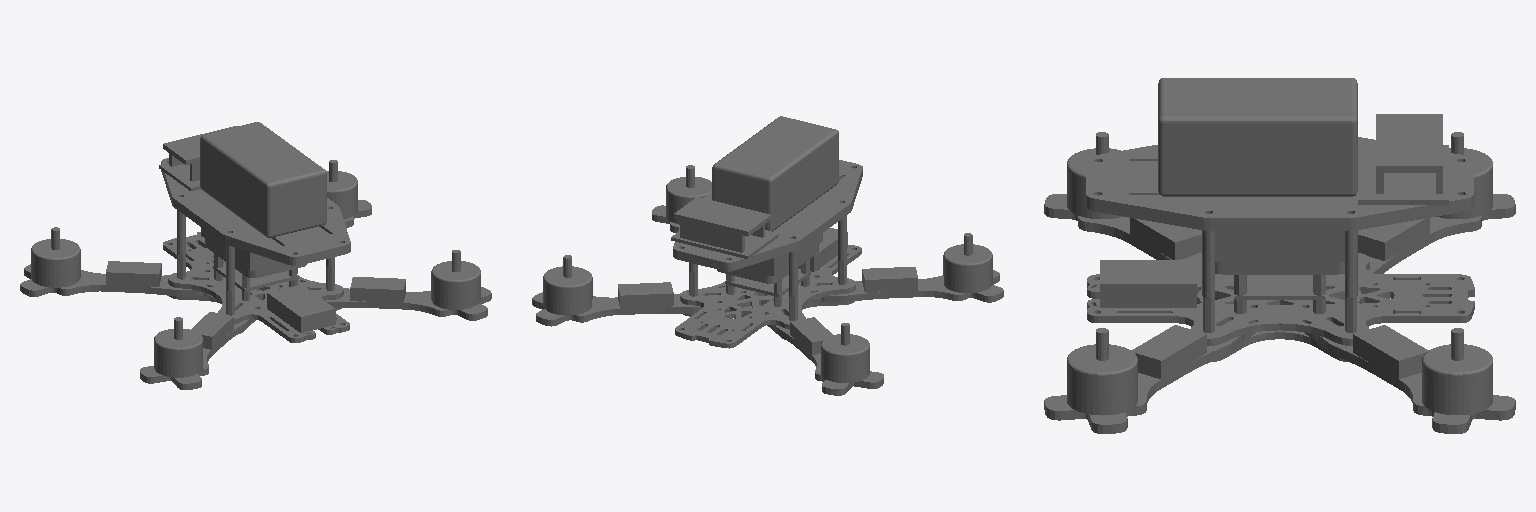
URDF robot description (cerlab):
<?xml version="1.0" ?>

<robot name="cerlab">

  <properties   arm="0.11300" 
                kf="3.16e-10" 
                km="7.94e-12" 
                thrust2weight="2.25" 
                max_speed_kmh="30"        
                gnd_eff_coeff="11.36859"    
                prop_radius="0.064"    
                drag_coeff_xy="9.1785e-7"   
                drag_coeff_z="10.311e-7"  
                dw_coeff_1="2267.18" 
                dw_coeff_2=".16" 
                dw_coeff_3="-.11" />

  <link name="base_link"> 

    <inertial>
      <origin rpy="0 0 0" xyz="0 0 0"/>
      <mass value="0.027"/>
      <inertia ixx="0.00024641" ixy="0.0" ixz="0.0" iyy="0.00012483" iyz="0.0" izz="0.00034464"/>
    </inertial>

    <!-- links>
      <carlos url="https://arxiv.org/pdf/1608.05786.pdf" />
      <julian url="http://mikehamer.info/assets/papers/Crazyflie%20Modelling.pdf" />
      <mit url="http://groups.csail.mit.edu/robotics-center/public_papers/Landry15.pdf" />
    </links -->

    <visual>
      <origin rpy="0 0 0" xyz="0 0 0"/>
      <geometry>
        <mesh filename="./cerlab.dae" scale=" 1 1 1"/>
      </geometry> 
      <material name="grey">
        <color rgba=".5 .5 .5 1"/>
      </material> 
    </visual>

    <collision>
      <origin rpy="0 0 0" xyz="0 0 0"/>
      <geometry>
        <cylinder radius=".06" length=".025"/>
      </geometry>
    </collision>  

  </link>

  <link name="prop0_link">
    <inertial>
      <origin rpy="0 0 0" xyz="0.09176543853 -0.06594015688 0"/>
      <mass value="0"/>
      <inertia ixx="0" ixy="0" ixz="0" iyy="0" iyz="0" izz="0"/>
    </inertial>
  </link>
  <joint name="prop0_joint" type="fixed">
    <parent link="base_link"/>
    <child link="prop0_link"/>
  </joint>

  <link name="prop1_link">
    <inertial>
      <origin rpy="0 0 0" xyz="-0.09176543853 0.06594015688 0"/>
      <mass value="0"/>
      <inertia ixx="0" ixy="0" ixz="0" iyy="0" iyz="0" izz="0"/>
    </inertial>
  </link>
  <joint name="prop1_joint" type="fixed">
    <parent link="base_link"/>
    <child link="prop1_link"/>
  </joint>

  <link name="prop2_link">
    <inertial>
      <origin rpy="0 0 0" xyz="0.09176543853 0.06594015688 0"/>
      <mass value="0"/>
      <inertia ixx="0" ixy="0" ixz="0" iyy="0" iyz="0" izz="0"/>
    </inertial>
  </link>
  <joint name="prop2_joint" type="fixed">
    <parent link="base_link"/>
    <child link="prop2_link"/>
  </joint>

  <link name="prop3_link">
    <inertial>
      <origin rpy="0 0 0" xyz="-0.09176543853 -0.06594015688 0"/>
      <mass value="0"/>
      <inertia ixx="0" ixy="0" ixz="0" iyy="0" iyz="0" izz="0"/>
    </inertial>
  </link>
  <joint name="prop3_joint" type="fixed">
    <parent link="base_link"/>
    <child link="prop3_link"/>
  </joint>

  <link name="center_of_mass_link">
    <inertial>
      <origin rpy="0 0 0" xyz="0 0 0"/>
      <mass value="0"/>
      <inertia ixx="0" ixy="0" ixz="0" iyy="0" iyz="0" izz="0"/>
    </inertial>
  </link>
  <joint name="center_of_mass_joint" type="fixed">
    <parent link="base_link"/>
    <child link="center_of_mass_link"/>
  </joint>

</robot>

--- What the picture shows (computed from the rendered views, not written in the file) ---
3 views of the same robot in one strip: view 1: azimuth 30°, elevation 25°; view 2: azimuth 150°, elevation 25°; view 3: azimuth 270°, elevation 25° (orthographic).
Model cerlab with 6 links and 5 joints (5 fixed), rooted at base_link, posed all joints at 0.
Visible links, largest first — view 1: base_link; view 2: base_link; view 3: base_link.
Boxes of the visible links, x1,y1,x2,y2 form: base_link: (20, 122, 491, 389); base_link: (532, 116, 1003, 395); base_link: (1044, 78, 1515, 433).
Bounding box of the posed robot: 0.2241 × 0.1822 × 0.0945 m (x, y, z).
1 mesh visuals loaded from 1 distinct referenced files (1 Collada DAE).
